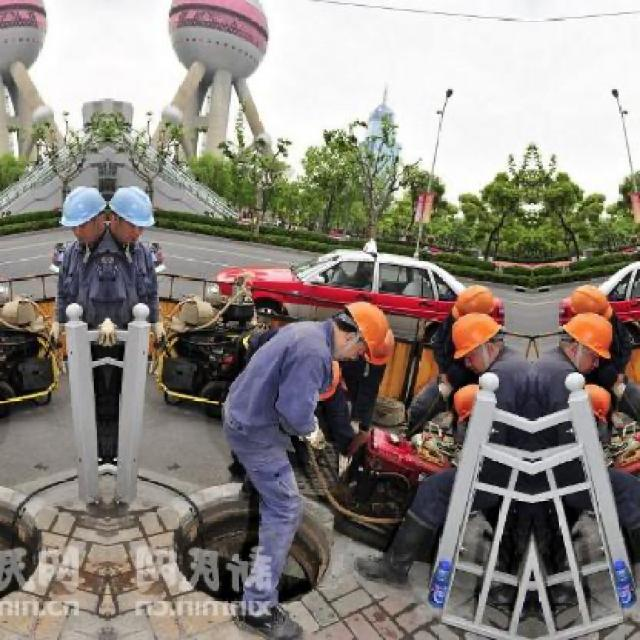helmet: (331, 295, 395, 371), (558, 306, 620, 362), (448, 306, 509, 362), (61, 182, 108, 246), (111, 182, 157, 246), (454, 283, 497, 325), (571, 283, 614, 325)
